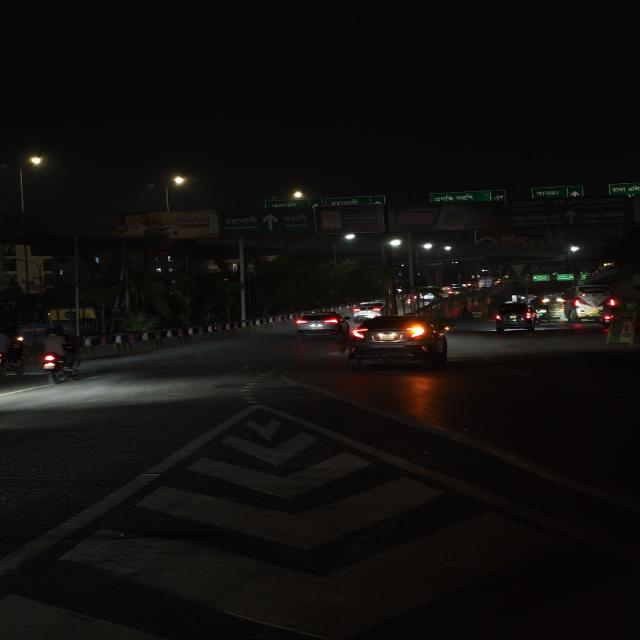bus: (556, 281, 623, 325)
car: (341, 314, 458, 369), (291, 310, 346, 340), (491, 301, 542, 333), (353, 302, 385, 318)
motorcycle: (28, 327, 86, 383)
rickshaw: (468, 302, 487, 320)
